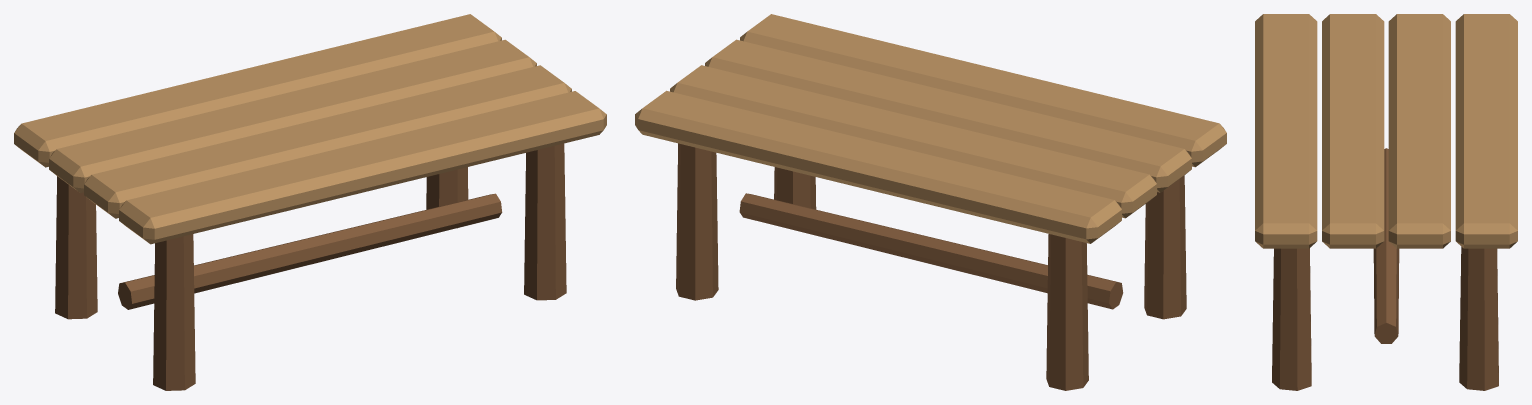
Rendered from CC_DiningTable.fbx.
The picture shows the model from 3 angles, left to right: view 1: azimuth 30°, elevation 25°; view 2: azimuth 150°, elevation 25°; view 3: azimuth 270°, elevation 25°; orthographic projection. The views are drawn at different scales.
Visible parts, largest first — view 1: Plank.032, Plank.035, Plank.033, Plank.034, Brace.007, Leg.042, Leg.040, Leg.041, Leg.043; view 2: Plank.035, Plank.033, Plank.032, Plank.034, Brace.007, Leg.041, Leg.043, Leg.040, Leg.042; view 3: Plank.032, Plank.033, Plank.034, Plank.035, Leg.042, Leg.043, Brace.007.
Part boxes in pixels (x1=…): Plank.032: x1=119, y1=91, x2=606, y2=244; Plank.035: x1=14, y1=14, x2=501, y2=167; Plank.033: x1=84, y1=65, x2=571, y2=218; Plank.034: x1=49, y1=39, x2=536, y2=192; Brace.007: x1=118, y1=193, x2=502, y2=309; Leg.042: x1=524, y1=143, x2=566, y2=300; Leg.040: x1=153, y1=234, x2=195, y2=390; Leg.041: x1=55, y1=176, x2=97, y2=319; Leg.043: x1=426, y1=167, x2=468, y2=228; Plank.035: x1=635, y1=90, x2=1121, y2=243; Plank.033: x1=705, y1=39, x2=1191, y2=192; Plank.032: x1=740, y1=14, x2=1226, y2=167; Plank.034: x1=670, y1=65, x2=1156, y2=218; Brace.007: x1=739, y1=193, x2=1123, y2=309; Leg.041: x1=1046, y1=234, x2=1088, y2=390; Leg.043: x1=676, y1=143, x2=718, y2=300; Leg.040: x1=1144, y1=175, x2=1186, y2=319; Leg.042: x1=774, y1=167, x2=816, y2=209; Plank.032: x1=1255, y1=14, x2=1317, y2=248; Plank.033: x1=1322, y1=14, x2=1384, y2=248; Plank.034: x1=1388, y1=14, x2=1450, y2=248; Plank.035: x1=1455, y1=14, x2=1517, y2=248; Leg.042: x1=1272, y1=248, x2=1311, y2=390; Leg.043: x1=1459, y1=247, x2=1498, y2=390; Brace.007: x1=1373, y1=148, x2=1399, y2=343.
Size of the model in its own units: 2.2 by 0.84 by 1.13.
